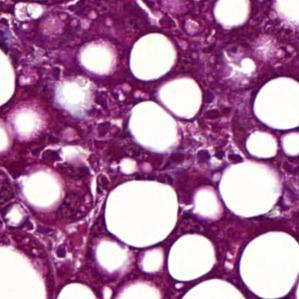steatosis: (105, 181, 178, 248), (238, 229, 299, 298), (129, 31, 178, 82), (253, 77, 299, 130), (166, 233, 215, 280), (0, 49, 17, 109)
